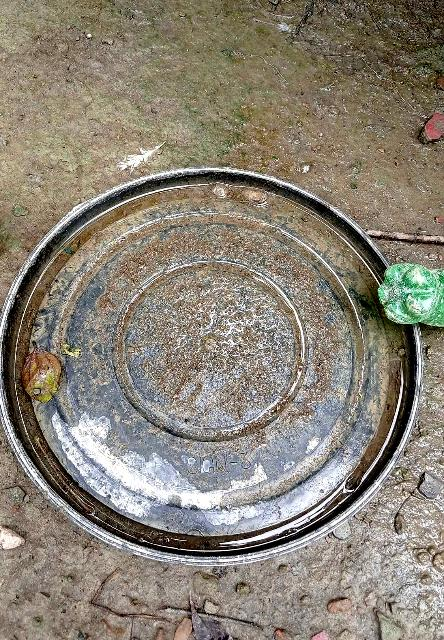hardplastic: (15, 161, 419, 568)
